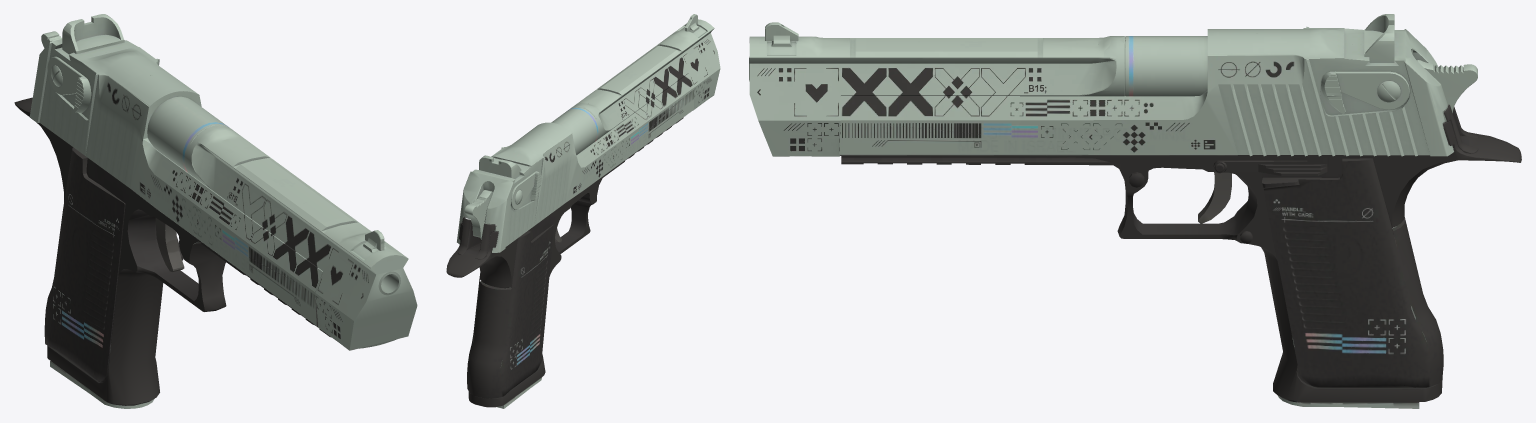
Rendered from deagle-printstream.glb.
3 renders of one model, left to right at view 1: azimuth 30°, elevation 25°; view 2: azimuth 150°, elevation 25°; view 3: azimuth 270°, elevation 25°, orthographic. The views are drawn at different scales.
Parts seen in each view (by area): view 1: weapons\models\deagle\weapon_pist_deagle.vmdl_c.body_legacy; view 2: weapons\models\deagle\weapon_pist_deagle.vmdl_c.body_legacy; view 3: weapons\models\deagle\weapon_pist_deagle.vmdl_c.body_legacy.
Part boxes in pixels (x1=…): weapons\models\deagle\weapon_pist_deagle.vmdl_c.body_legacy: x1=14, y1=14, x2=417, y2=408; weapons\models\deagle\weapon_pist_deagle.vmdl_c.body_legacy: x1=446, y1=14, x2=720, y2=408; weapons\models\deagle\weapon_pist_deagle.vmdl_c.body_legacy: x1=749, y1=14, x2=1521, y2=408.
Size of the model in its own units: 0.033 by 0.154 by 0.2888.
1 material, 1 textured.
